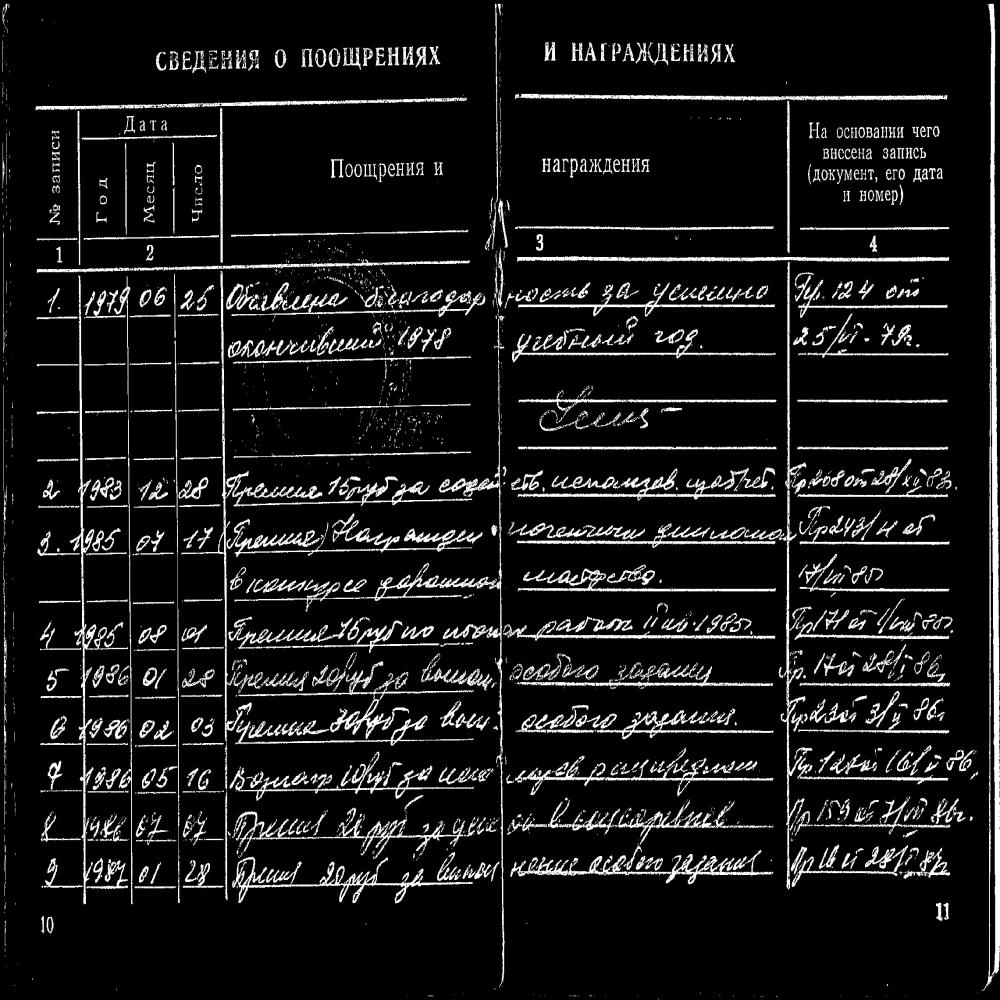rus: (28, 649, 220, 700), (786, 728, 976, 779), (786, 782, 970, 834), (31, 793, 217, 842), (783, 832, 970, 880), (789, 582, 953, 636), (35, 839, 218, 887), (783, 682, 950, 733), (34, 465, 219, 511), (35, 747, 223, 792), (790, 449, 962, 498), (34, 508, 224, 552), (788, 638, 954, 685), (227, 704, 487, 734), (32, 608, 222, 647), (227, 460, 388, 506), (792, 260, 930, 313), (796, 500, 951, 547), (230, 609, 436, 644), (792, 544, 947, 589), (594, 838, 765, 877), (226, 657, 411, 693), (502, 753, 755, 779), (28, 708, 218, 742), (796, 311, 924, 360), (226, 271, 347, 322), (551, 801, 742, 831), (641, 262, 777, 303), (223, 324, 382, 359), (525, 464, 677, 500), (511, 317, 638, 360), (357, 273, 492, 312), (633, 598, 752, 642), (624, 698, 743, 741), (502, 268, 632, 306), (219, 511, 327, 555), (151, 32, 263, 74), (435, 612, 637, 635), (334, 512, 488, 541), (681, 453, 776, 500), (406, 848, 498, 895), (322, 151, 450, 184), (302, 43, 440, 73), (568, 38, 737, 62), (516, 704, 616, 744), (227, 566, 364, 595), (424, 811, 528, 847), (520, 565, 660, 590), (615, 655, 717, 689), (221, 806, 331, 837), (540, 149, 656, 178), (235, 760, 332, 793), (236, 847, 304, 893), (511, 522, 643, 544), (512, 655, 596, 687), (424, 655, 494, 692), (377, 573, 503, 593), (401, 476, 512, 498), (656, 525, 789, 543), (329, 806, 404, 837), (342, 764, 438, 788), (511, 849, 583, 880), (47, 125, 64, 235), (320, 854, 380, 885), (134, 157, 161, 224), (838, 118, 906, 142), (185, 158, 208, 226), (396, 324, 448, 354), (652, 330, 703, 355), (814, 163, 869, 184), (94, 167, 113, 225), (124, 111, 172, 133), (826, 143, 872, 163), (271, 30, 289, 79), (884, 141, 930, 159), (913, 165, 945, 189), (805, 114, 832, 140), (844, 189, 902, 200), (910, 121, 942, 138), (546, 37, 556, 60), (888, 168, 903, 183)
